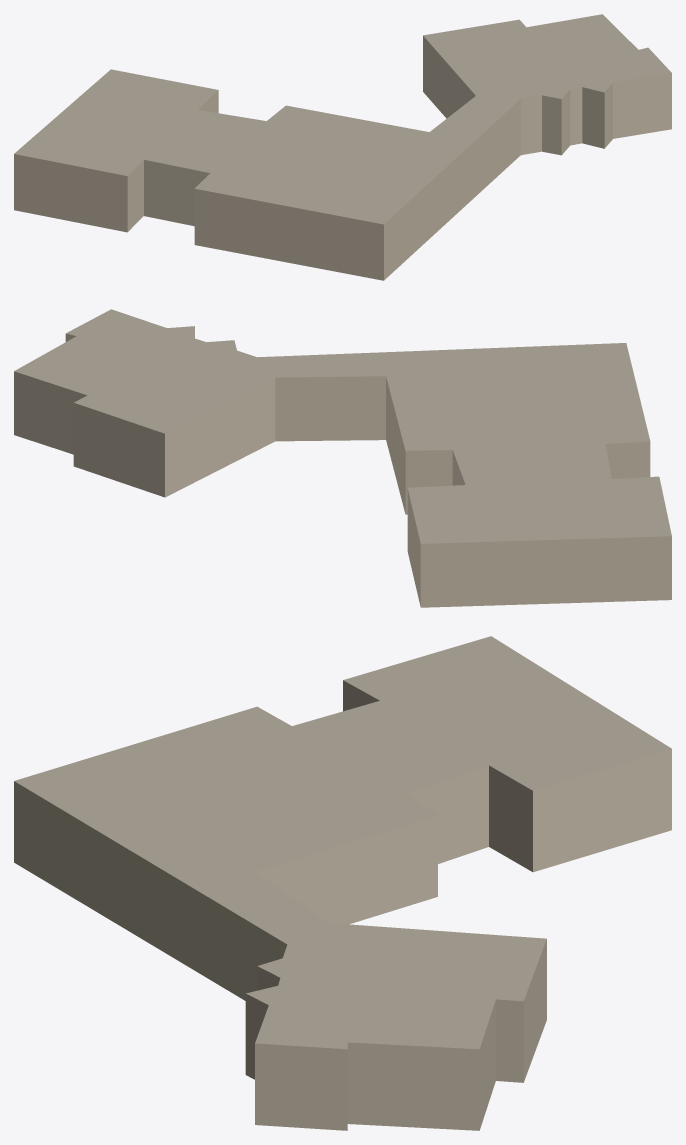
The picture shows the model from 3 angles, top to bottom: view 1: azimuth 30°, elevation 25°; view 2: azimuth 150°, elevation 25°; view 3: azimuth 270°, elevation 25°; orthographic projection. The views are drawn at different scales.
Parts seen in each view (by area): view 1: tuile; view 2: tuile; view 3: tuile.
Part boxes in pixels (x1=…): tuile: x1=14, y1=14, x2=671, y2=280; tuile: x1=14, y1=309, x2=671, y2=607; tuile: x1=14, y1=636, x2=671, y2=1130.
Size of the model in its own units: 42.2 by 3.88 by 28.4.
